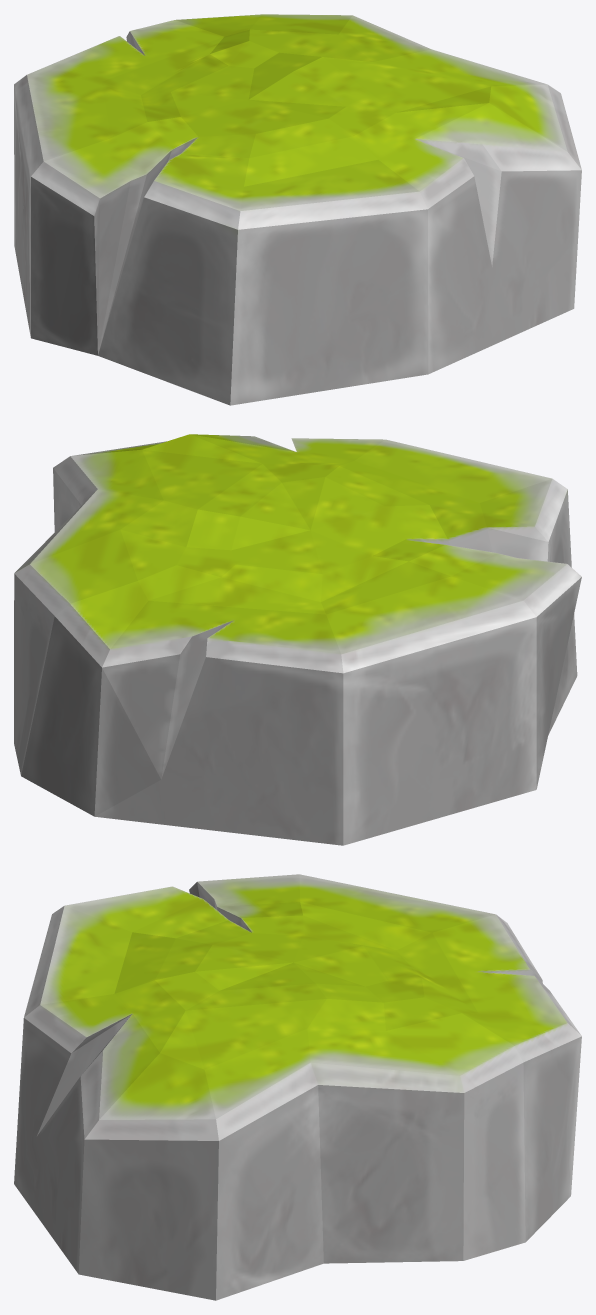
Rendered from landblocks2.fbx.
The picture shows the model from 3 angles, top to bottom: view 1: azimuth 30°, elevation 25°; view 2: azimuth 150°, elevation 25°; view 3: azimuth 270°, elevation 25°; orthographic projection. The views are drawn at different scales.
Visible parts, largest first — view 1: landblocks2; view 2: landblocks2; view 3: landblocks2.
Part boxes in pixels (x1,y1,x2,y2): landblocks2: (14,14,581,405); landblocks2: (14,434,581,845); landblocks2: (14,874,581,1300).
Bounding box in the file's own units: 339 × 130 × 323.
